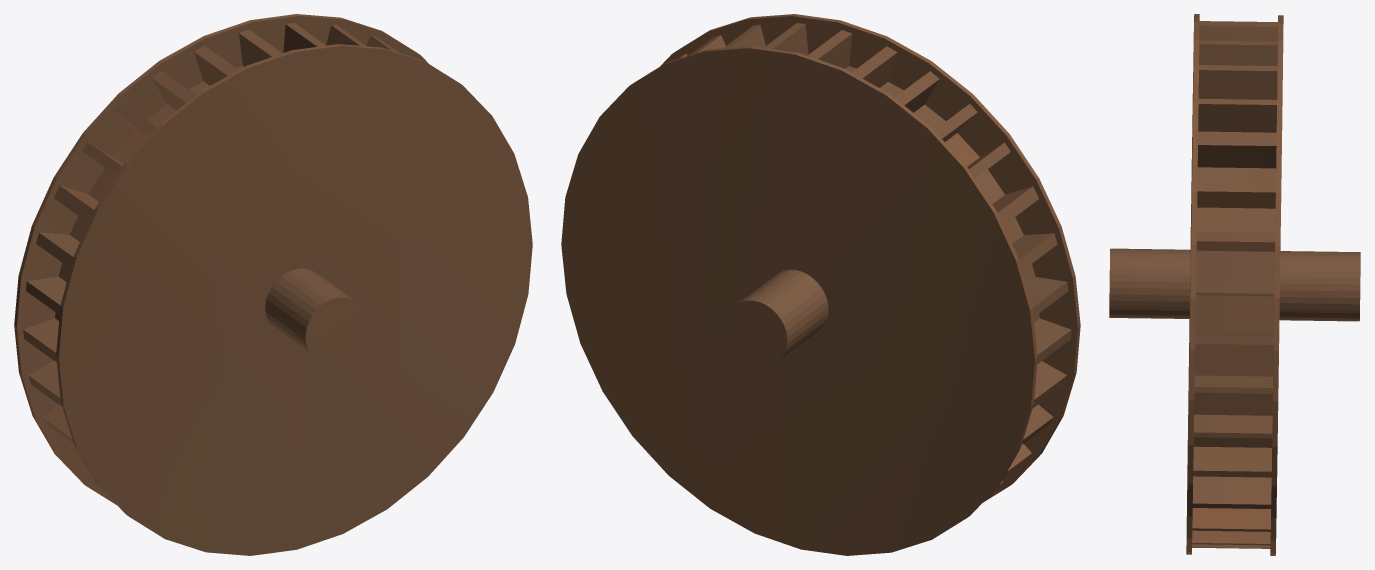
Rendered from waterwiel.fbx.
3 views of the same model, side by side, from view 1: azimuth 30°, elevation 25°; view 2: azimuth 150°, elevation 25°; view 3: azimuth 270°, elevation 25° (orthographic).
Visible parts, largest first — view 1: Cylinder.002; view 2: Cylinder.002; view 3: Cylinder.002.
Part boxes in pixels (bbox=[...]): Cylinder.002: bbox=[14, 14, 532, 555]; Cylinder.002: bbox=[561, 14, 1080, 555]; Cylinder.002: bbox=[1109, 14, 1360, 555].
Size of the model in its own units: 545 by 546 by 253.
1 material, 1 textured.
